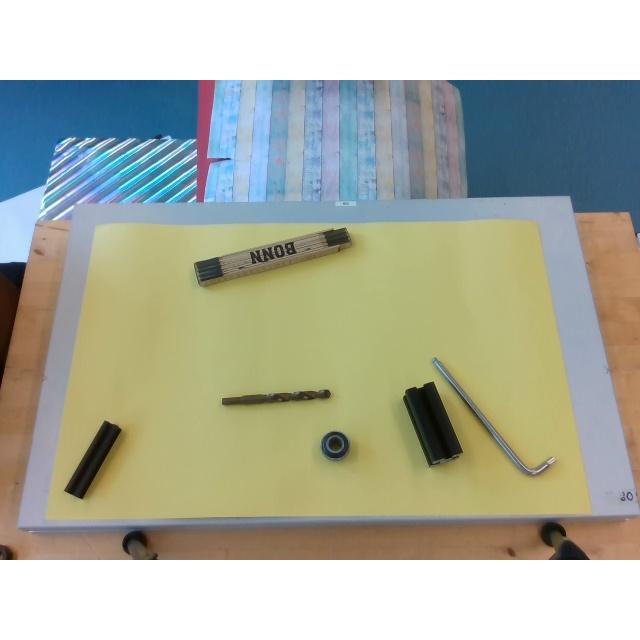AllenKey: (432, 356, 556, 476)
Bearing2: (321, 431, 349, 459)
Drill: (222, 388, 331, 404)
F20_20_B: (64, 422, 120, 498)
S40_40_B: (403, 382, 461, 466)
